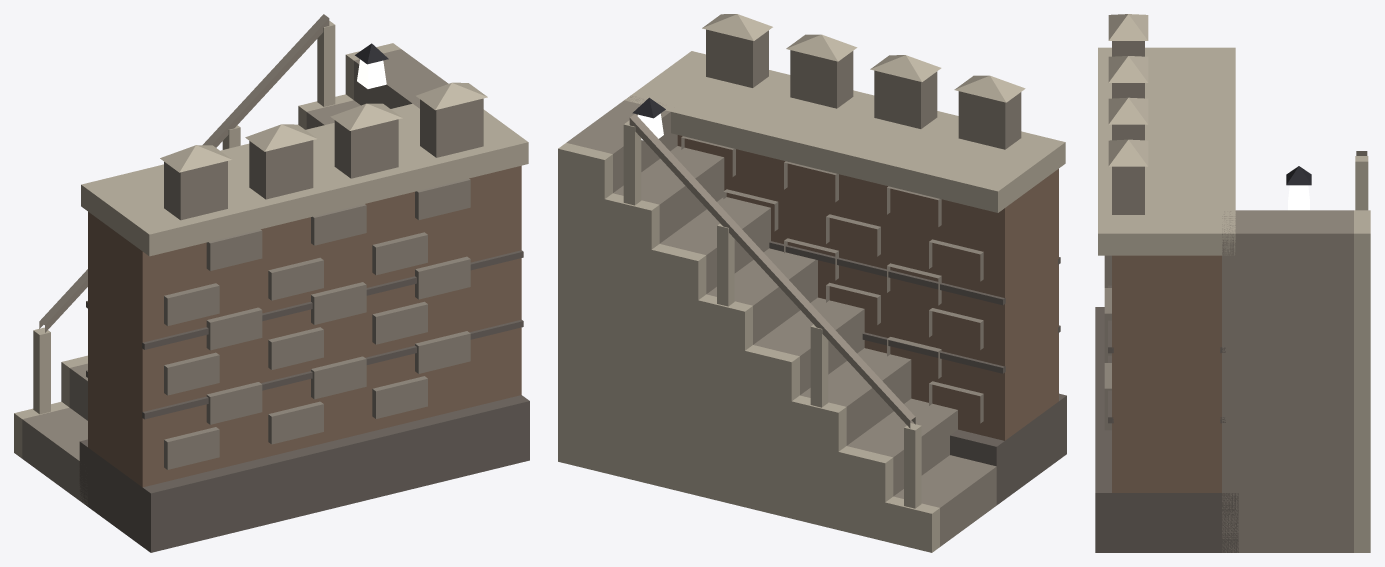
Rendered from wall_stairs.fbx.
The picture shows the model from 3 angles, left to right: view 1: azimuth 30°, elevation 25°; view 2: azimuth 150°, elevation 25°; view 3: azimuth 270°, elevation 25°; orthographic projection.
Parts seen in each view (by area): view 1: wall_stairs; view 2: wall_stairs; view 3: wall_stairs.
Part boxes in pixels (box(x1,y1,x2,y2)): wall_stairs: box(14, 14, 529, 552); wall_stairs: box(558, 14, 1066, 552); wall_stairs: box(1095, 14, 1370, 552).
Size of the model in its own units: 4 by 3.84 by 2.5.
